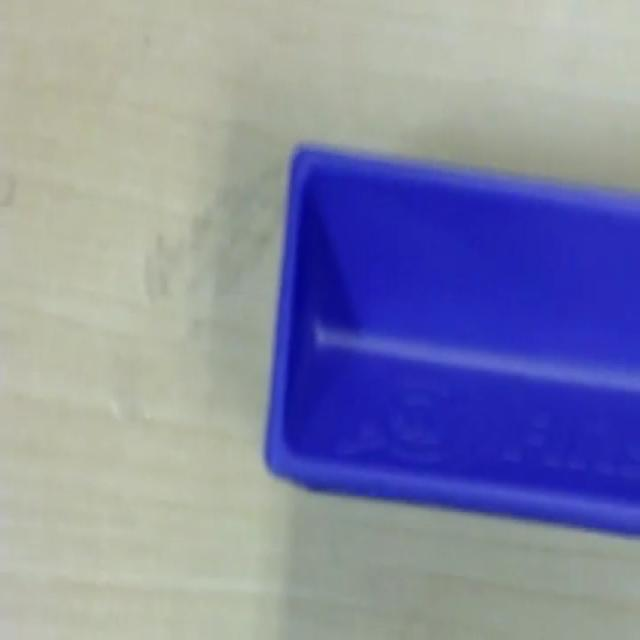blue_block: (262, 137, 638, 535)
